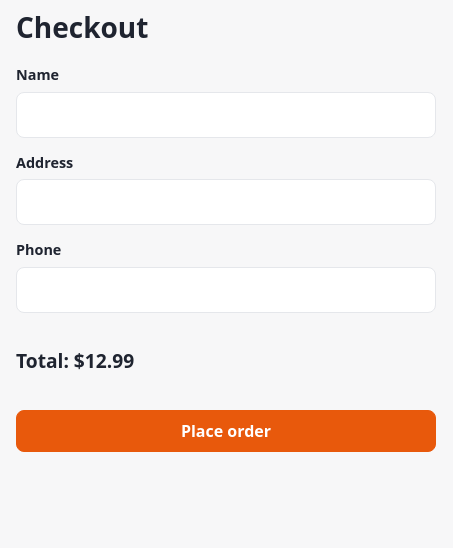
Checkout › validates required fields before submitting
Check: the text "Total: $12.99" is shown, box [16,347,134,374]
Click the button "Place order" at (226, 431), box [16,410,436,452]
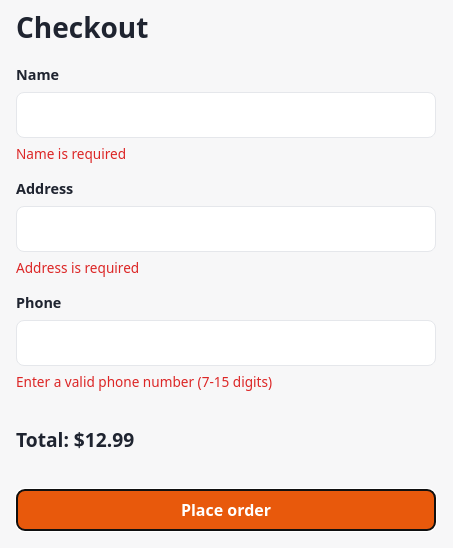
Check: the number of messages is 3, box [16,144,126,163]; [16,258,139,277]; [16,372,272,391]
